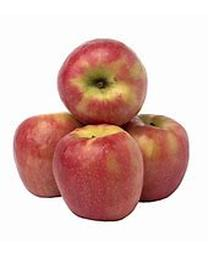apple: (51, 124, 143, 221), (56, 38, 147, 126), (13, 113, 83, 197), (123, 113, 188, 201)
